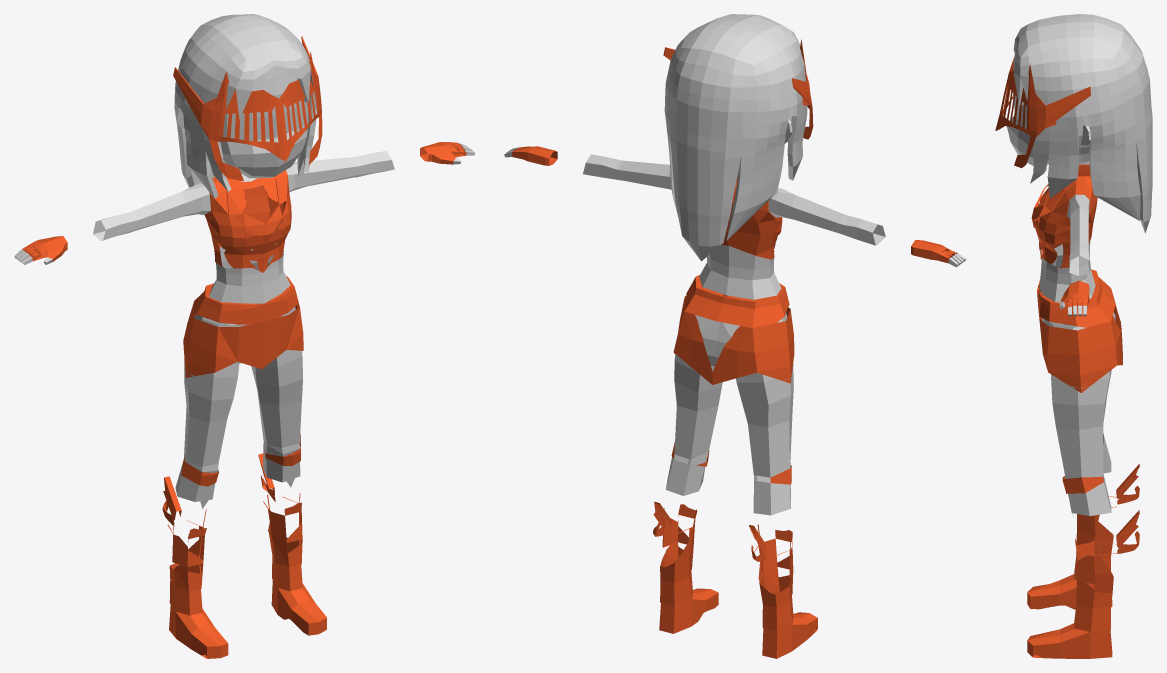
The model's file is Char03-Final.fbx.
3 views of the same model, side by side, from view 1: azimuth 30°, elevation 25°; view 2: azimuth 150°, elevation 25°; view 3: azimuth 270°, elevation 25° (orthographic).
Visible parts, largest first — view 1: Char03; view 2: Char03; view 3: Char03.
Part boxes in pixels (box(x1,y1,x2,y2)): Char03: box(14, 14, 475, 658); Char03: box(504, 14, 966, 658); Char03: box(995, 14, 1152, 658).
Size of the model in its own units: 297 by 379 by 89.24.
3 materials, 2 textured.
